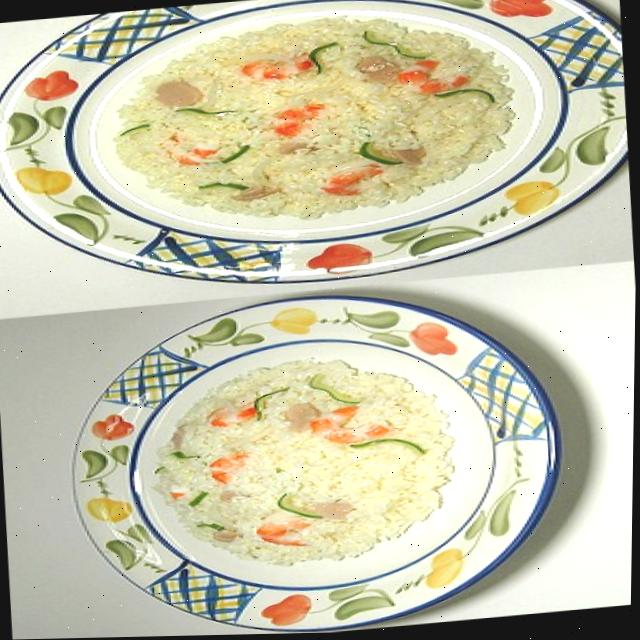米饭主食: (0, 0, 637, 316)
